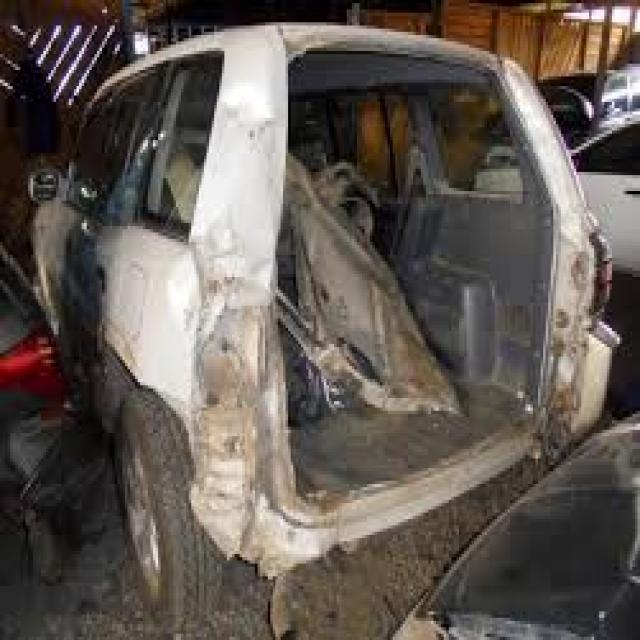severe: (39, 82, 606, 586)
